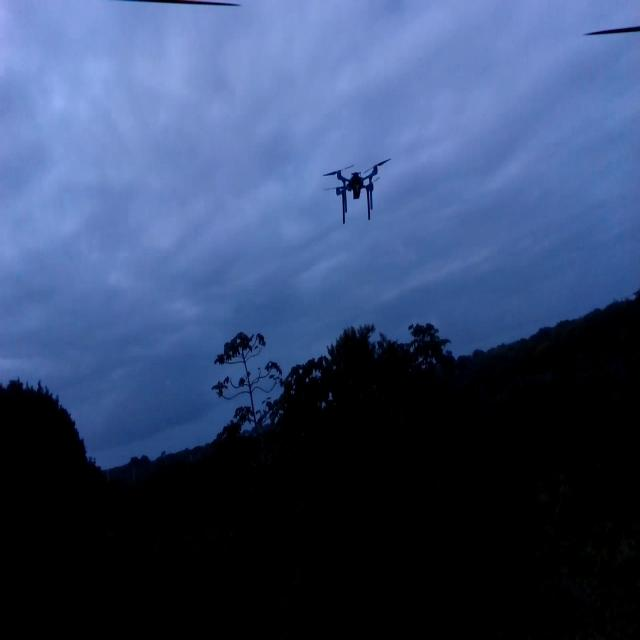-uav-: (315, 148, 402, 235)
